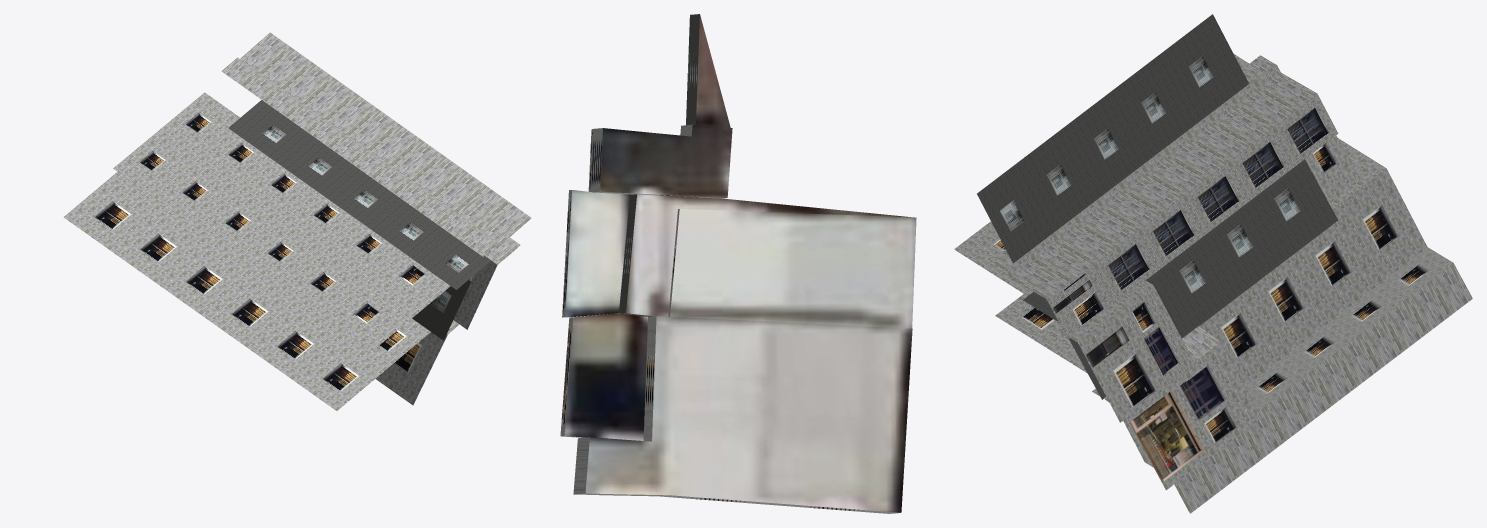
The picture shows the model from 3 angles, left to right: view 1: azimuth 30°, elevation 25°; view 2: azimuth 150°, elevation 25°; view 3: azimuth 270°, elevation 25°; orthographic projection. The views are drawn at different scales.
Size of the model in its own units: 25.9 by 27.58 by 28.77.
20 materials, 20 textured.
